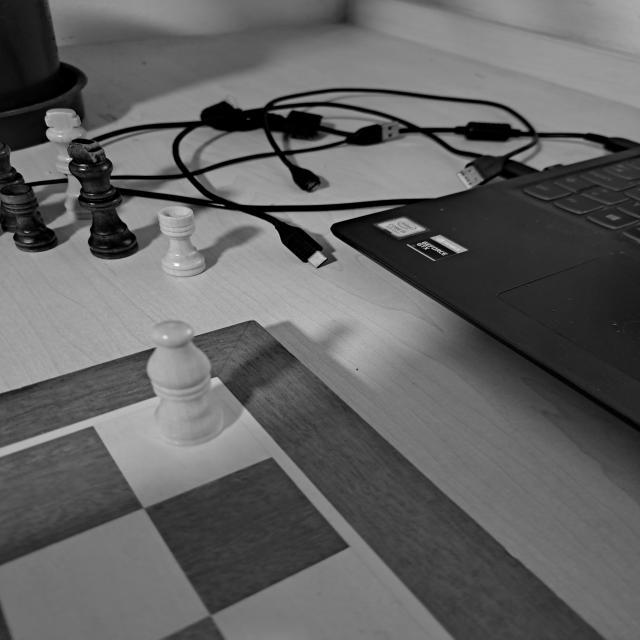chess-table-corners: (153, 359, 263, 419)
